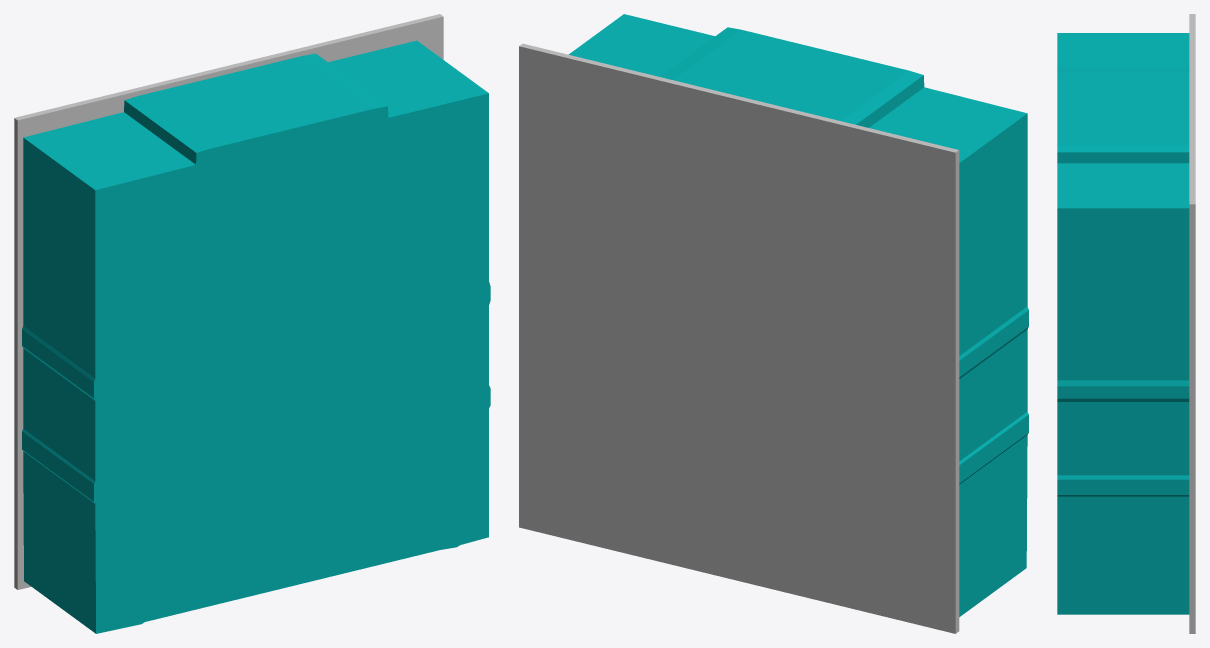
3 renders of one model, left to right at view 1: azimuth 30°, elevation 25°; view 2: azimuth 150°, elevation 25°; view 3: azimuth 270°, elevation 25°, orthographic. The views are drawn at different scales.
Visible parts, largest first — view 1: world; view 2: world; view 3: world.
Part boxes in pixels (x1=…): world: x1=14, y1=14, x2=490, y2=633; world: x1=519, y1=14, x2=1028, y2=633; world: x1=1057, y1=14, x2=1195, y2=633.
Bounding box in the file's own units: 10.23 × 10.78 × 3.15.
